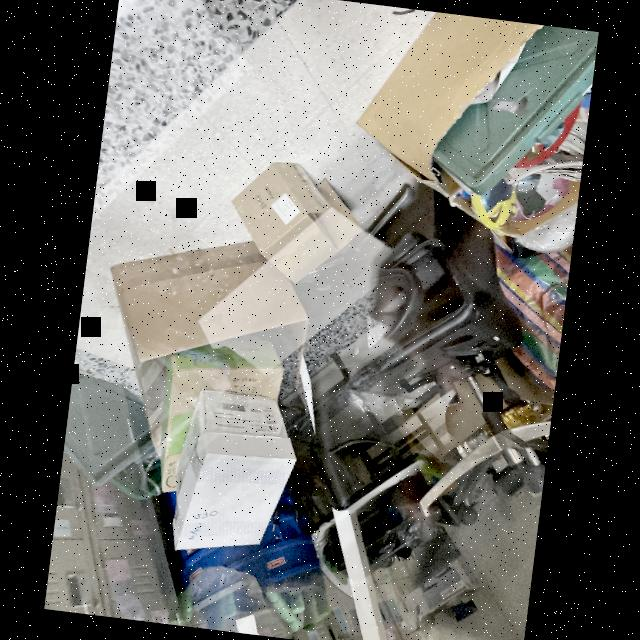cardboard_box: (94, 221, 318, 441), (343, 4, 538, 202), (150, 378, 306, 560), (215, 154, 362, 292)
